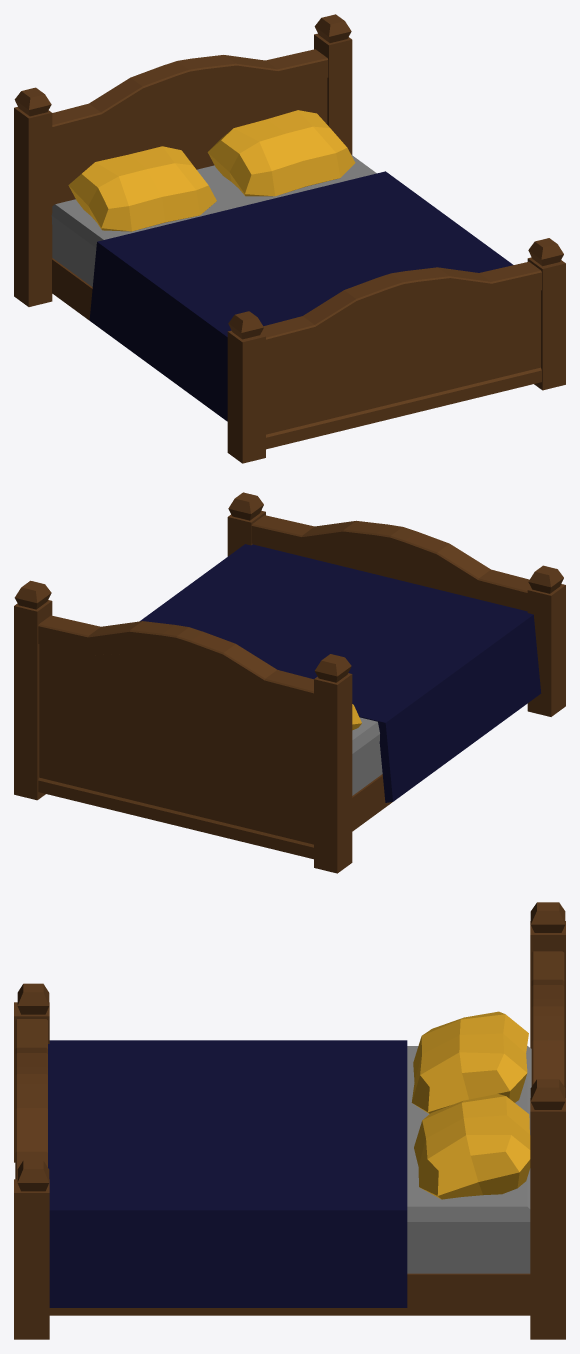
File: double-bed.glb
3 renders of one model, top to bottom at view 1: azimuth 30°, elevation 25°; view 2: azimuth 150°, elevation 25°; view 3: azimuth 270°, elevation 25°, orthographic. The views are drawn at different scales.
Visible parts, largest first — view 1: DoubleBed1, Blanked_DoubleBed1, Pillow1_DoubleBed1; view 2: DoubleBed1, Blanked_DoubleBed1; view 3: Blanked_DoubleBed1, DoubleBed1, Pillow1_DoubleBed1.
Boxes of the visible parts, x1,y1,x2,y2 form: DoubleBed1: [14, 14, 565, 463]; Blanked_DoubleBed1: [89, 171, 513, 421]; Pillow1_DoubleBed1: [68, 110, 355, 231]; DoubleBed1: [14, 492, 565, 873]; Blanked_DoubleBed1: [140, 544, 541, 802]; Blanked_DoubleBed1: [48, 1040, 407, 1307]; DoubleBed1: [14, 902, 565, 1339]; Pillow1_DoubleBed1: [411, 1011, 530, 1199].
Size of the model in its own units: 1.98 by 1.21 by 2.43.
